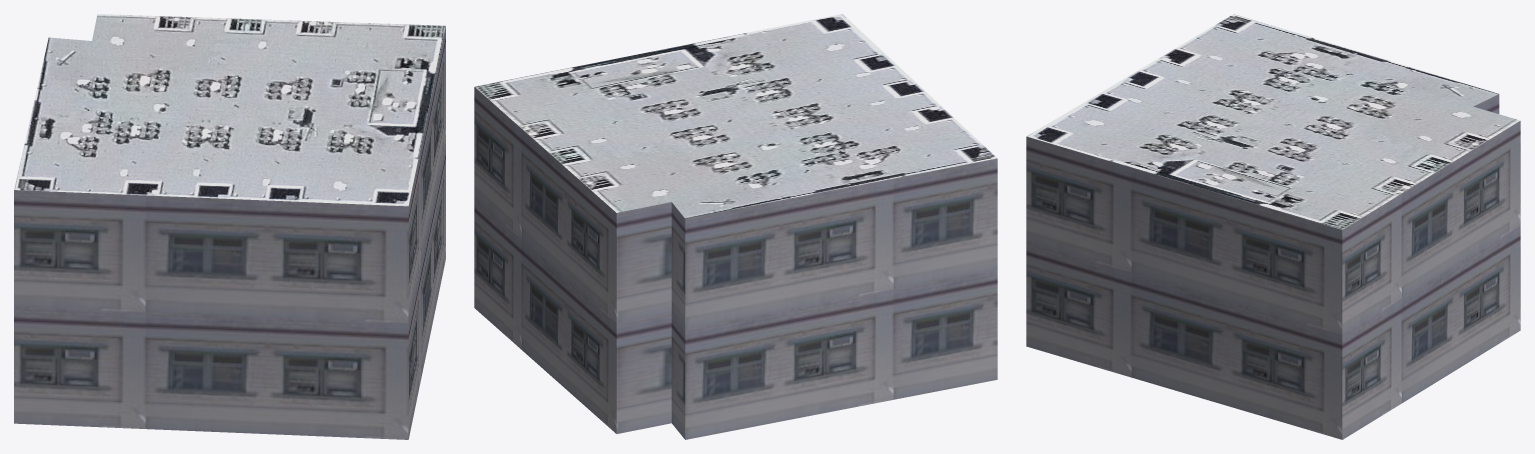
File: ResTex__1937.fbx
The picture shows the model from 3 angles, left to right: view 1: azimuth 30°, elevation 25°; view 2: azimuth 150°, elevation 25°; view 3: azimuth 270°, elevation 25°; orthographic projection. The views are drawn at different scales.
Visible parts, largest first — view 1: CityEngineMaterial_1_m, CityEngineMaterial_8_m; view 2: CityEngineMaterial_1_m, CityEngineMaterial_8_m; view 3: CityEngineMaterial_1_m, CityEngineMaterial_8_m.
Part boxes in pixels (left/top/right/bottom): CityEngineMaterial_1_m: left=14, top=26, right=445, bottom=439; CityEngineMaterial_8_m: left=14, top=14, right=445, bottom=206; CityEngineMaterial_1_m: left=474, top=87, right=997, bottom=439; CityEngineMaterial_8_m: left=474, top=14, right=997, bottom=218; CityEngineMaterial_1_m: left=1026, top=94, right=1520, bottom=439; CityEngineMaterial_8_m: left=1026, top=14, right=1520, bottom=229.
Bounding box in the file's own units: 13.23 × 6 × 12.8.
2 materials, 2 textured.
